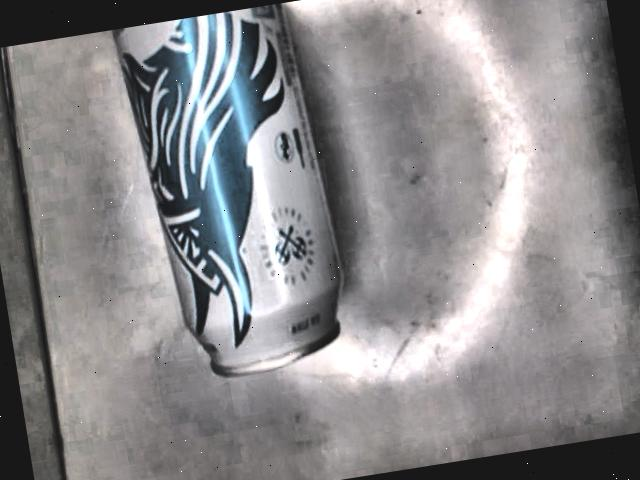Bottles: (109, 3, 346, 374)
